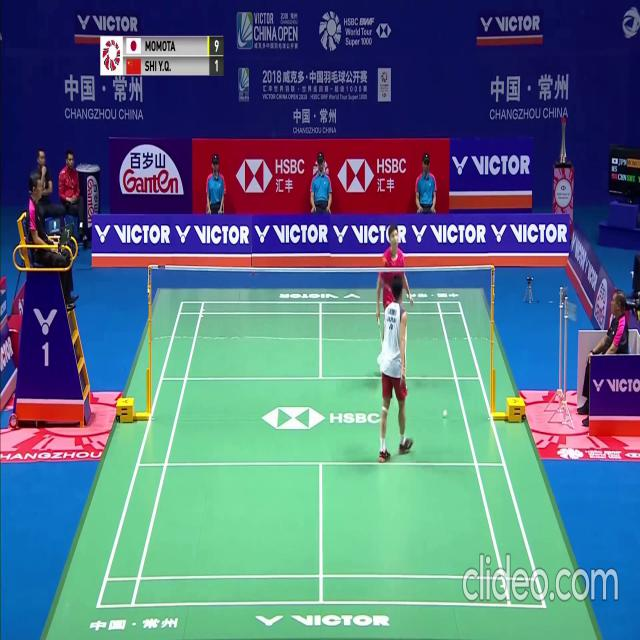Shuttlecock: (444, 410, 448, 417)
